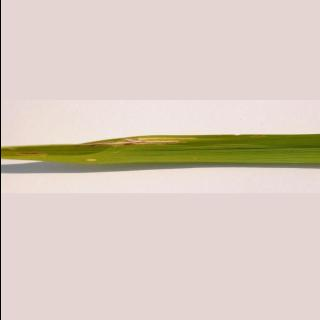Hawar-Daun: (0, 127, 181, 161)
